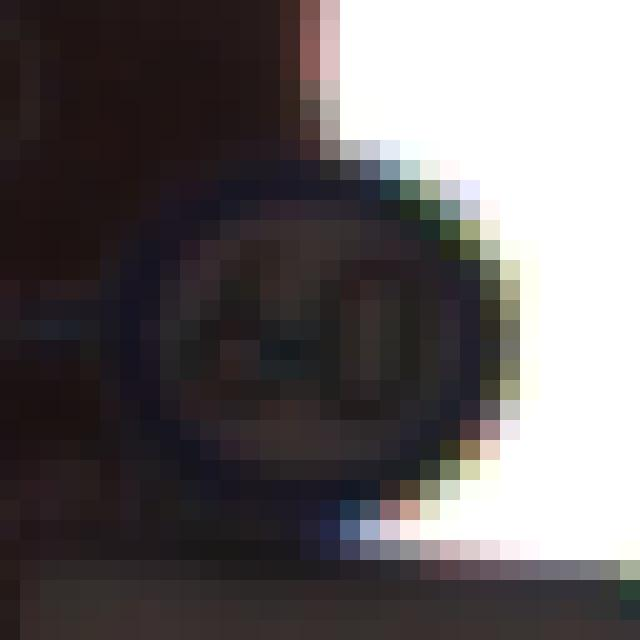SPEED-LIMIT-60: (126, 146, 531, 519)
